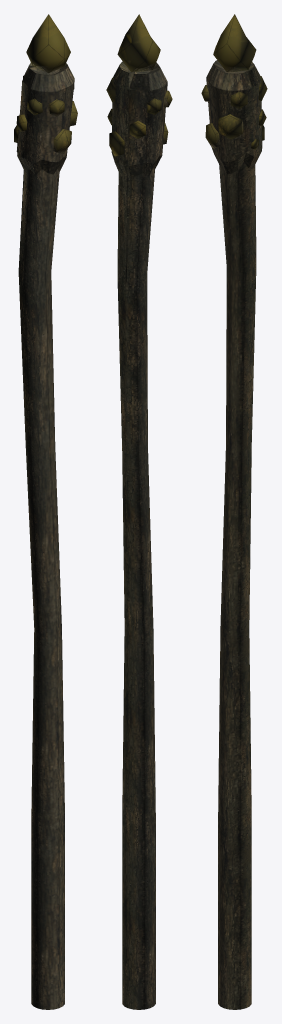
File: посох.FBX
The picture shows the model from 3 angles, left to right: view 1: azimuth 90°, elevation 25°; view 2: azimuth 150°, elevation 25°; view 3: azimuth 330°, elevation 25°; orthographic projection.
Parts seen in each view (by area): view 1: Cylinder001; view 2: Cylinder001; view 3: Cylinder001.
Boxes of the visible parts, x1,y1,x2,y2 form: Cylinder001: (14,14,77,1009); Cylinder001: (106,14,172,1009); Cylinder001: (201,14,267,1009).
Bounding box in the file's own units: 2.32 × 41.54 × 2.43.
Materials: 1 (1 with a texture image).
